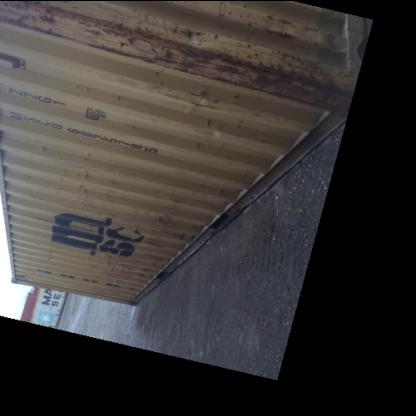Damage: (3, 1, 347, 110), (132, 200, 192, 249), (69, 146, 99, 208), (98, 249, 142, 284)
